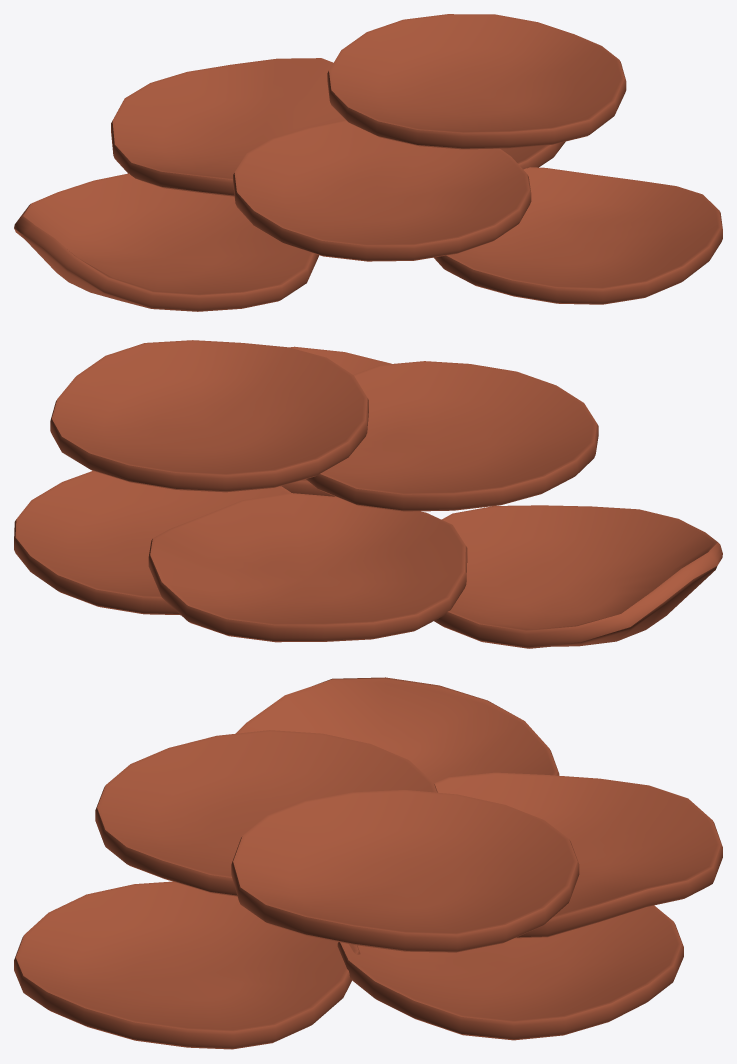
The model's file is pilePepperonis.glb.
3 views of the same model, one above another, from view 1: azimuth 30°, elevation 25°; view 2: azimuth 150°, elevation 25°; view 3: azimuth 270°, elevation 25° (orthographic). The views are drawn at different scales.
Visible parts, largest first — view 1: polySurface142, polySurface143, polySurface146, polySurface144, polySurface145, polySurface147; view 2: polySurface142, polySurface145, polySurface143, polySurface146, polySurface147, polySurface144; view 3: polySurface142, polySurface144, polySurface143, polySurface147, polySurface145, polySurface146.
Boxes of the visible parts, x1=… form: polySurface142: x1=327, y1=14, x2=626, y2=149; polySurface143: x1=233, y1=120, x2=531, y2=261; polySurface146: x1=14, y1=173, x2=318, y2=311; polySurface144: x1=434, y1=167, x2=722, y2=304; polySurface145: x1=111, y1=58, x2=345, y2=196; polySurface147: x1=500, y1=141, x2=565, y2=169; polySurface142: x1=50, y1=340, x2=368, y2=492; polySurface145: x1=148, y1=493, x2=467, y2=642; polySurface143: x1=306, y1=361, x2=598, y2=511; polySurface146: x1=434, y1=505, x2=722, y2=648; polySurface147: x1=14, y1=471, x2=290, y2=615; polySurface144: x1=280, y1=346, x2=391, y2=496; polySurface142: x1=231, y1=790, x2=579, y2=952; polySurface144: x1=14, y1=881, x2=360, y2=1049; polySurface143: x1=95, y1=730, x2=437, y2=896; polySurface147: x1=337, y1=905, x2=683, y2=1040; polySurface145: x1=434, y1=772, x2=722, y2=938; polySurface146: x1=236, y1=677, x2=559, y2=782.
Size of the model in its own units: 0.033 by 0.00659 by 0.0306.
